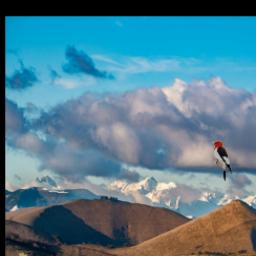Woodpecker: (212, 140, 233, 181)
